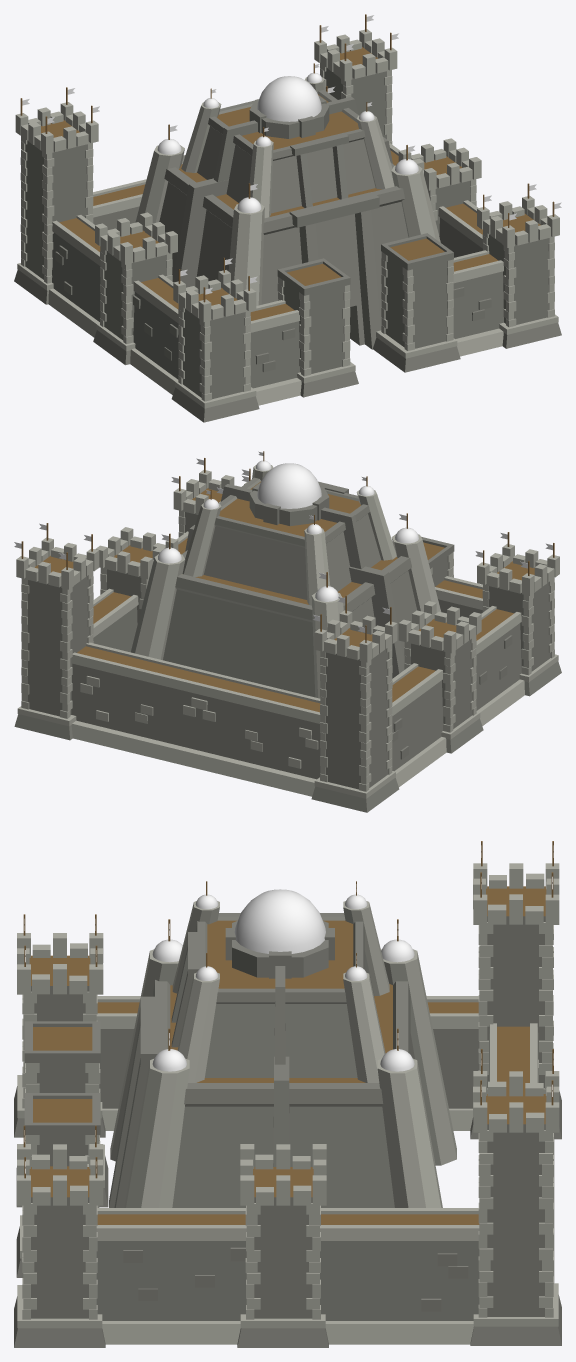
The picture shows the model from 3 angles, top to bottom: view 1: azimuth 30°, elevation 25°; view 2: azimuth 150°, elevation 25°; view 3: azimuth 270°, elevation 25°; orthographic projection. The views are drawn at different scales.
Visible parts, largest first — view 1: Wonder_SecondAge_Level3; view 2: Wonder_SecondAge_Level3; view 3: Wonder_SecondAge_Level3.
Boxes of the visible parts, x1,y1,x2,y2 form: Wonder_SecondAge_Level3: (14, 14, 561, 422); Wonder_SecondAge_Level3: (14, 451, 561, 812); Wonder_SecondAge_Level3: (14, 841, 561, 1347).
Size of the model in its own units: 4 by 2.54 by 3.68.
